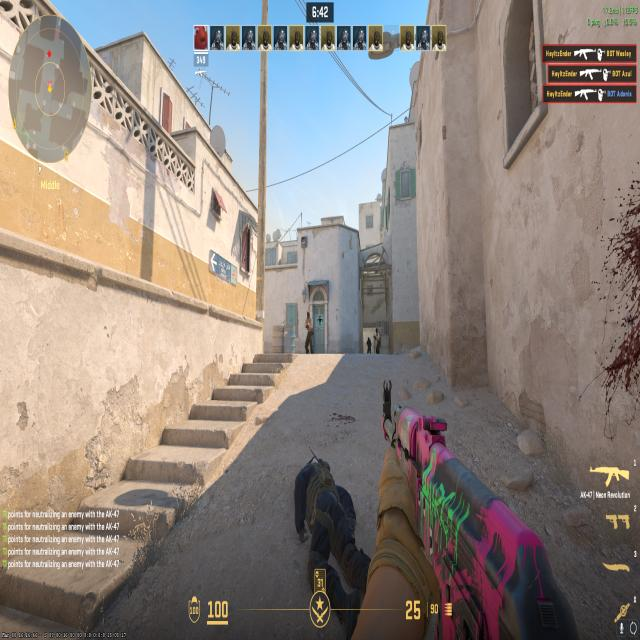ct: (366, 336, 371, 352)
t: (304, 311, 315, 356), (374, 327, 382, 356)
